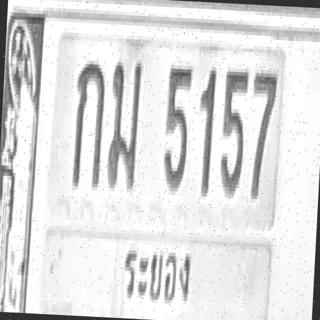A01: (72, 57, 106, 188)
A33: (106, 57, 142, 191)
N01: (195, 65, 216, 195)
N05: (162, 63, 193, 190), (219, 66, 249, 197)
N07: (247, 69, 277, 200)
P53: (117, 237, 196, 312)
